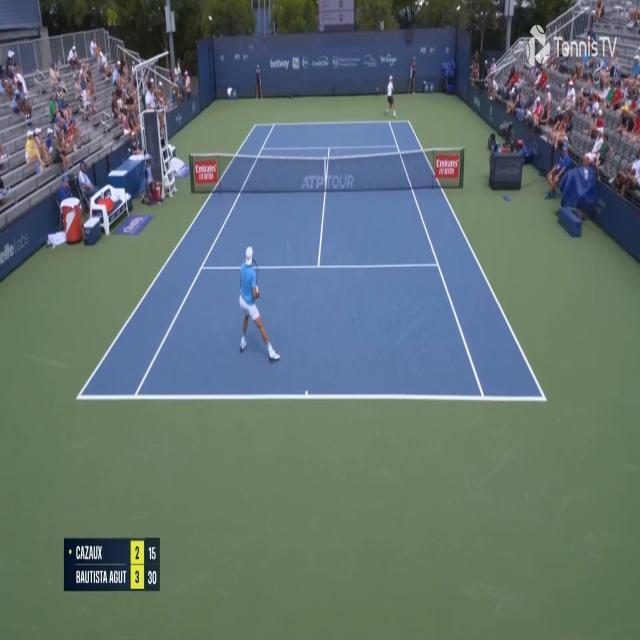tennis-player: (236, 242, 283, 367), (386, 74, 396, 117)
